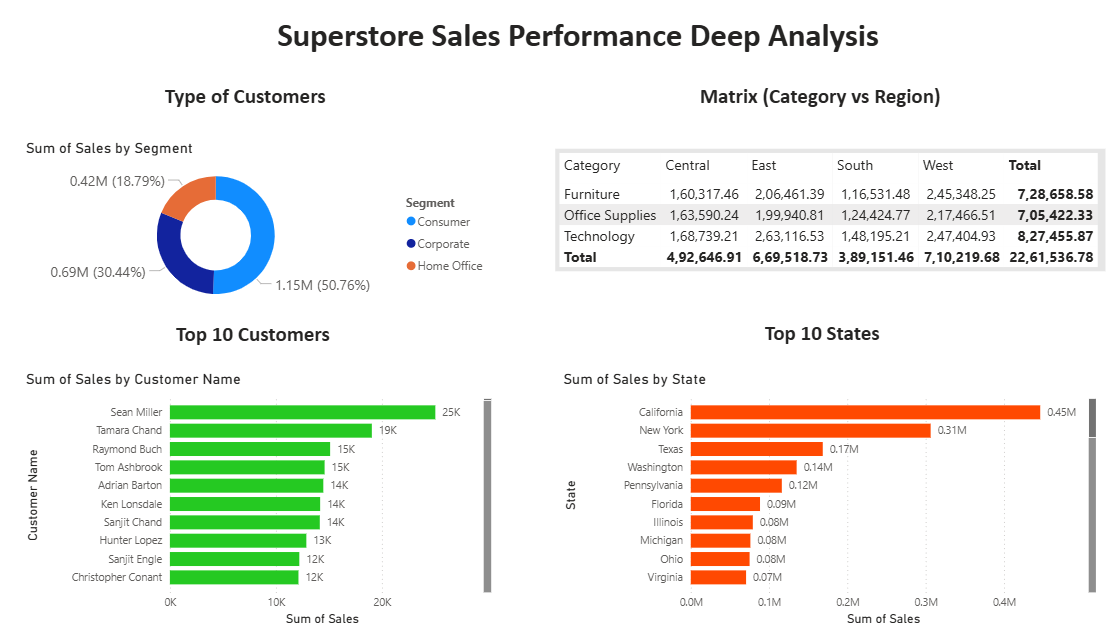

This screenshot's page, from the dashboard's own definition file:
{"tool":"powerbi","page":{"name":"Page 2","canvas":[1280,720],"ordinal":1},"visuals":[{"type":"donutChart","fields":{"Category":["cleaned_superstore.Segment"],"Y":["Sum(cleaned_superstore.Sales)"]},"box":[25.7,158.6,541.4,201.4],"z":0},{"type":"clusteredBarChart","fields":{"Category":["cleaned_superstore.Customer Name"],"Y":["Sum(cleaned_superstore.Sales)"]},"box":[25.7,422.9,541.4,297.1],"z":1000},{"type":"clusteredBarChart","fields":{"Category":["cleaned_superstore.State"],"Y":["Sum(cleaned_superstore.Sales)"]},"box":[640,422.9,618.6,297.1],"z":2000},{"type":"pivotTable","fields":{"Rows":["cleaned_superstore.Category"],"Columns":["cleaned_superstore.Region"],"Values":["Sum(cleaned_superstore.Sales)"]},"box":[635.7,170,628.6,140],"z":3000},{"type":"textbox","box":[197.1,361.4,198.6,44.3],"z":3001},{"type":"textbox","box":[870,360,162.9,45.7],"z":3002},{"type":"textbox","box":[795.7,90,310,48.6],"z":3003},{"type":"textbox","box":[184.3,90,225.7,44.3],"z":3004},{"type":"textbox","box":[312.9,12.9,712.9,61.4],"z":3005}]}

Visuals, with their boxes in screenshot pixels (x1, y1, x2, y2), scaled from the page's 1280x720 canvas onto the 1117x628 screenshot:
donutChart - cleaned_superstore.Segment x Sum(cleaned_superstore.Sales): 22/138/495/314
clusteredBarChart - cleaned_superstore.Customer Name x Sum(cleaned_superstore.Sales): 22/369/495/627
clusteredBarChart - cleaned_superstore.State x Sum(cleaned_superstore.Sales): 558/369/1098/627
pivotTable - cleaned_superstore.Category x cleaned_superstore.Region: 555/148/1103/270
textbox: 172/315/345/354
textbox: 759/314/901/354
textbox: 694/78/965/121
textbox: 161/78/358/117
textbox: 273/11/895/65
